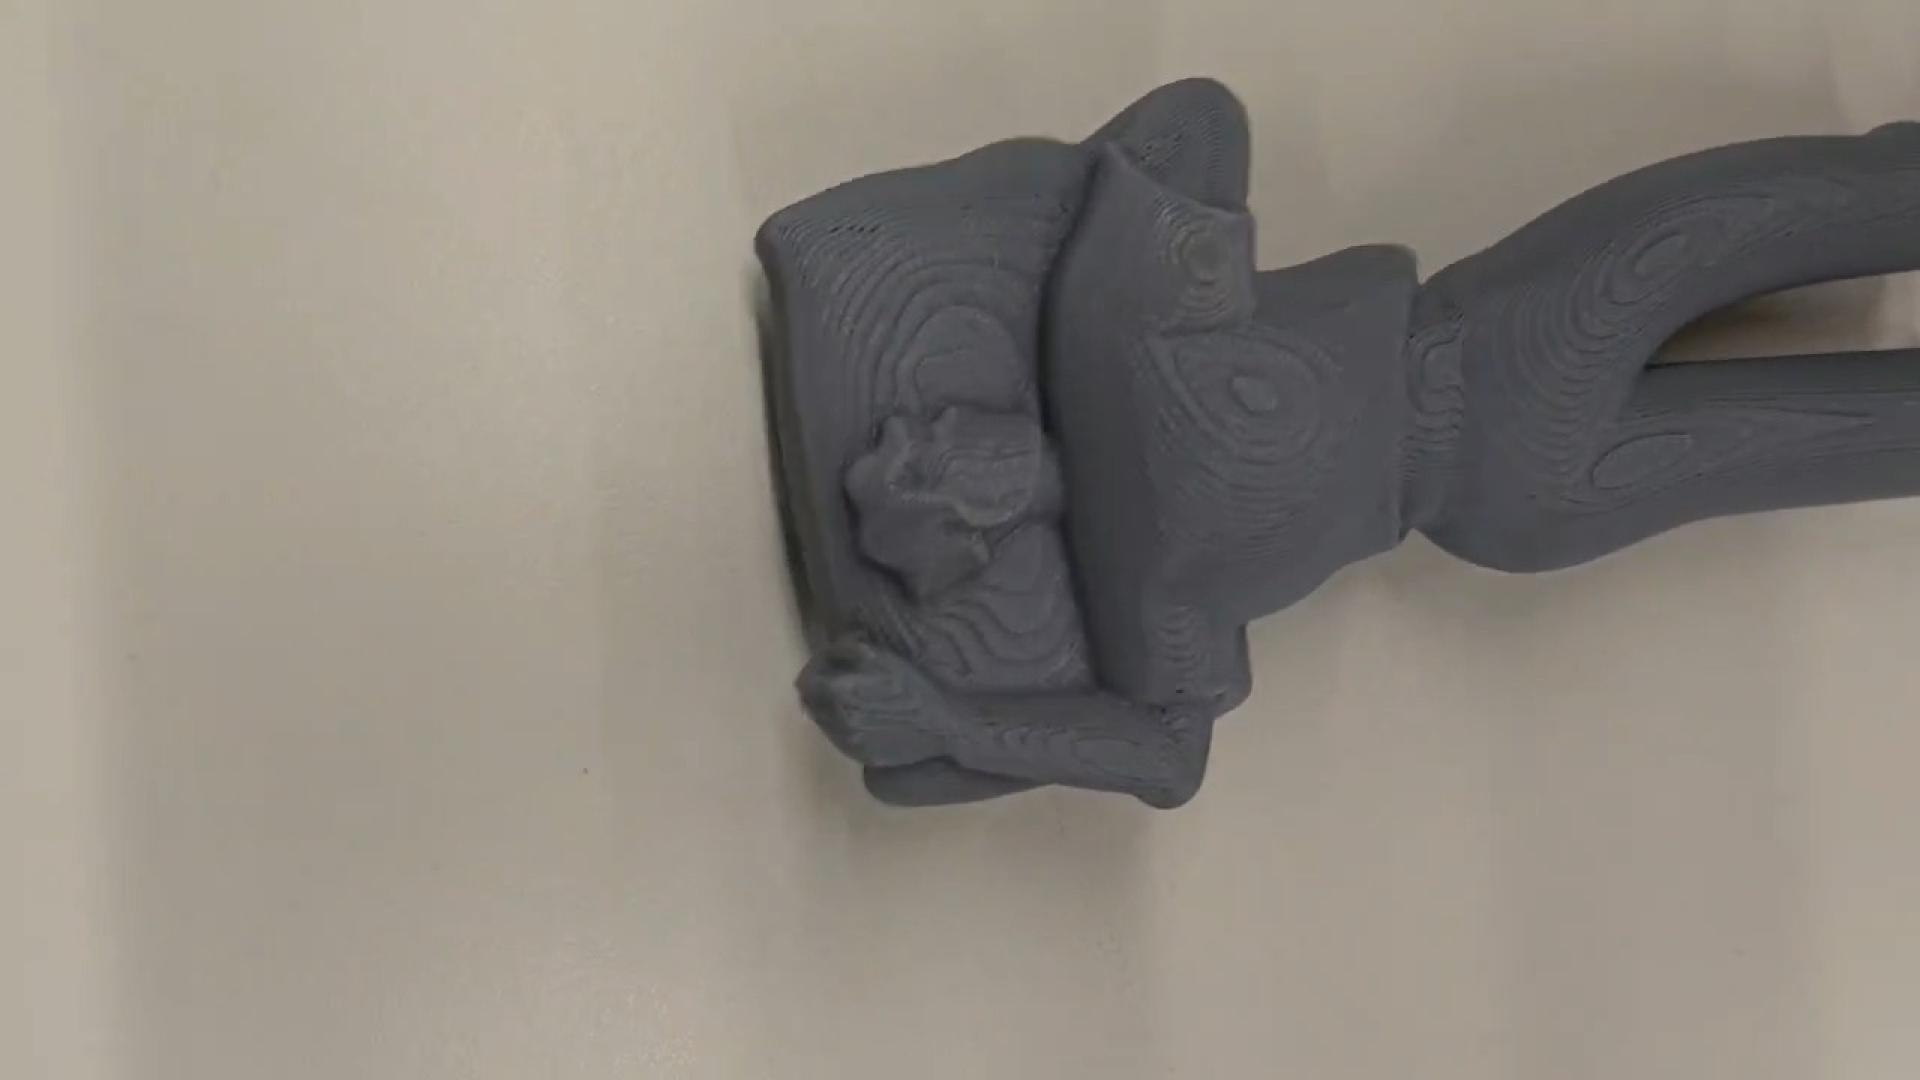Bad-style: (746, 73, 1920, 824)
